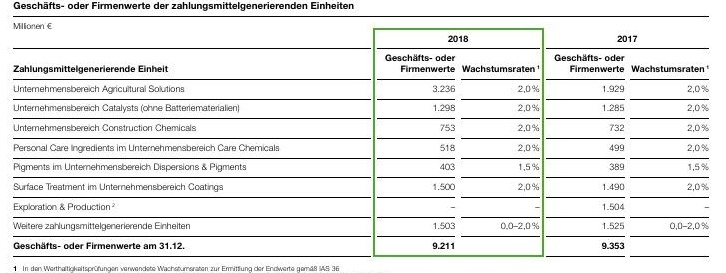table: (0, 0, 726, 273)
